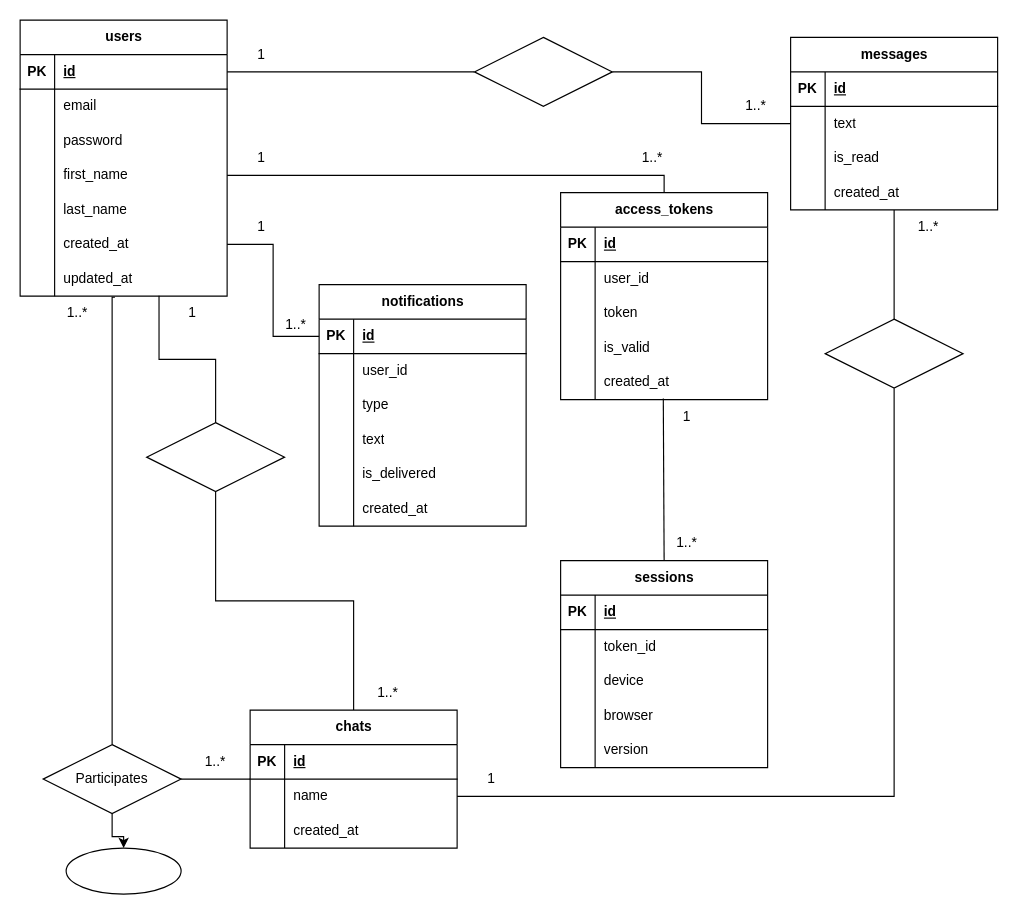
This 1018x914 diagram has some shape labels left out. The centre of each missing label's shape, as x and y in pixels:
"Admin" goes at point 215,456.
"Has" goes at point 893,353.
"joined_at" goes at point 123,870.
"Writes" goes at point 542,71.
